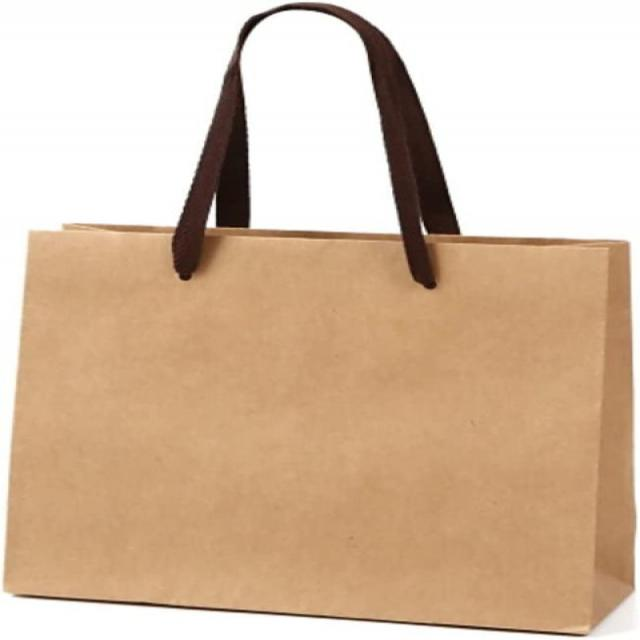paper bag: (2, 6, 640, 638)
